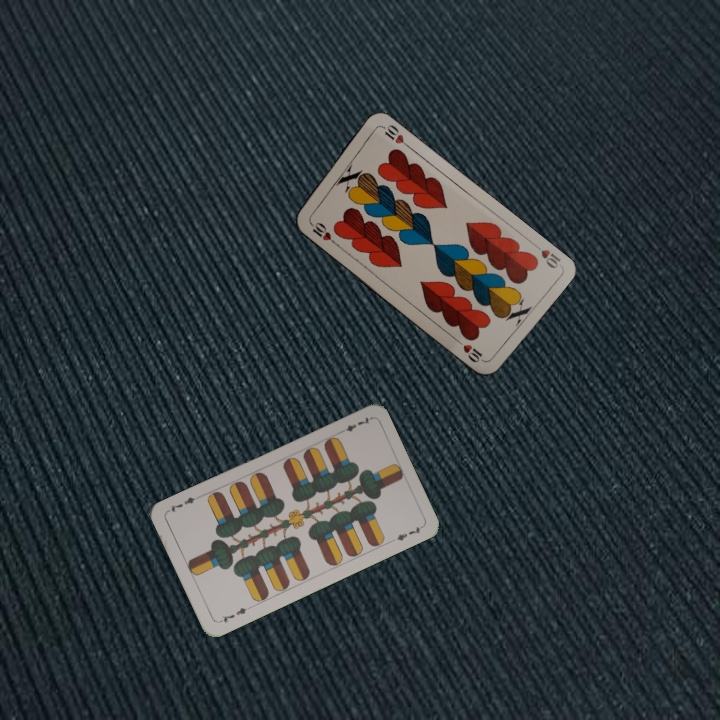E7: (336, 413, 373, 437), (215, 603, 253, 625)
H10: (529, 240, 563, 271), (305, 217, 339, 247)
